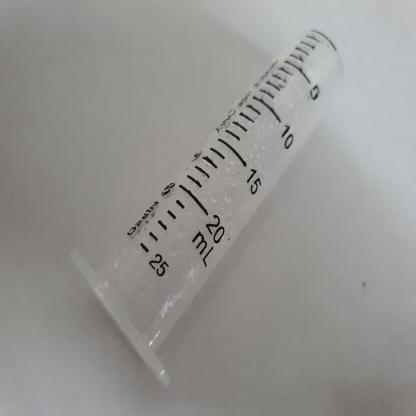wet: (67, 17, 365, 397)
